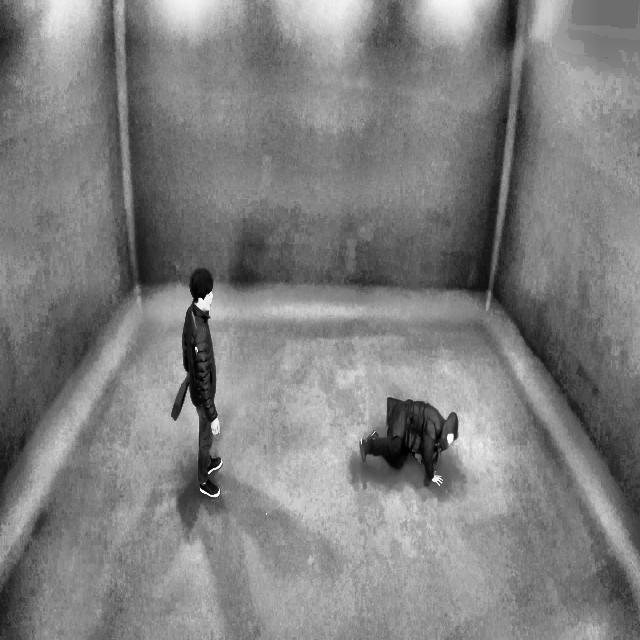assult: (175, 264, 474, 492)
